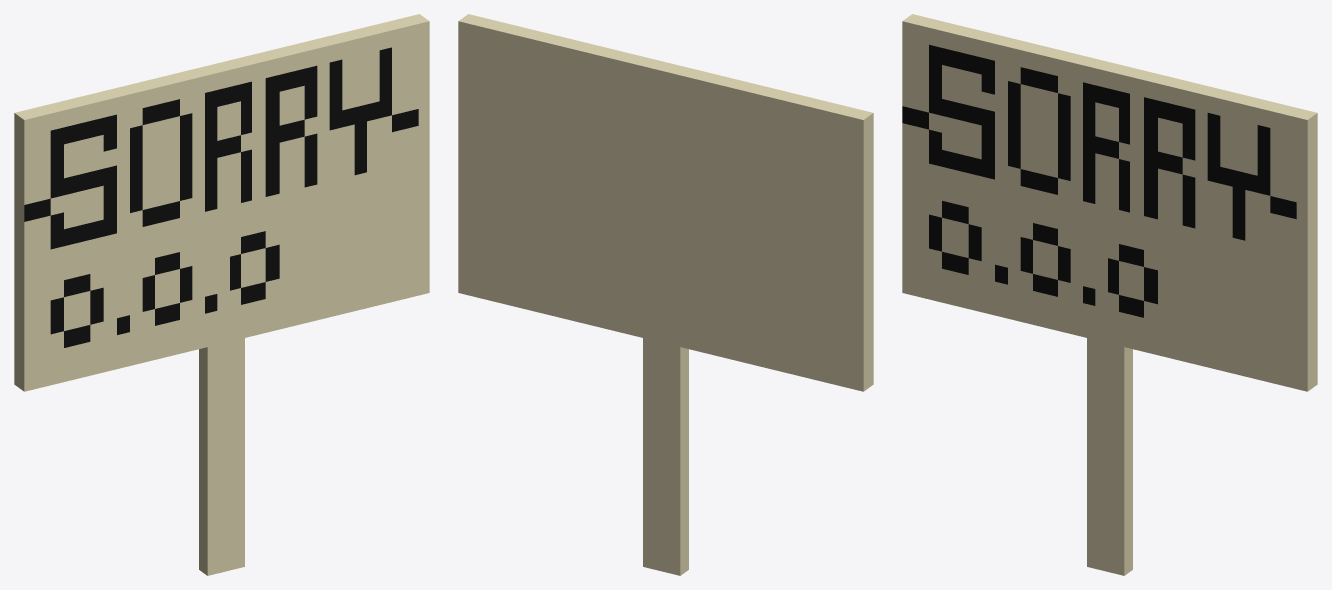
The model's file is ENVIRONMENT_OFFICE_FOXY_SIGN.fbx.
The picture shows the model from 3 angles, left to right: view 1: azimuth 30°, elevation 25°; view 2: azimuth 150°, elevation 25°; view 3: azimuth 330°, elevation 25°; orthographic projection.
Visible parts, largest first — view 1: Cube.019, Cube.020; view 2: Cube.019, Cube.020; view 3: Cube.019, Cube.020.
Boxes of the visible parts, <box> form: Cube.019: <box>14,14,429,391</box>; Cube.020: <box>199,338,244,575</box>; Cube.019: <box>458,14,873,391</box>; Cube.020: <box>643,338,688,575</box>; Cube.019: <box>902,14,1317,391</box>; Cube.020: <box>1087,338,1132,575</box>.
Bounding box in the file's own units: 142 × 168 × 6.03.
